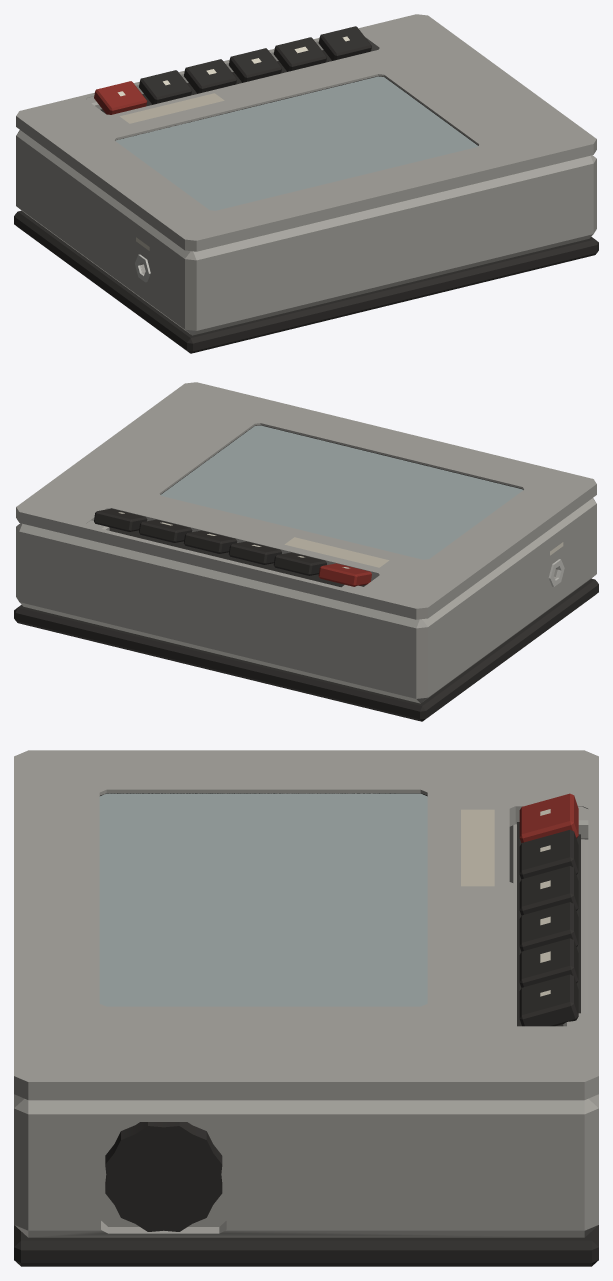
Rendered from portable-cassette-18391ebb8baf.glb.
The picture shows the model from 3 angles, top to bottom: view 1: azimuth 30°, elevation 25°; view 2: azimuth 150°, elevation 25°; view 3: azimuth 270°, elevation 25°; orthographic projection. The views are drawn at different scales.
Parts seen in each view (by area): view 1: brushed, glass-clear, plastic-dark, enamel-red, decal-print; view 2: brushed, glass-clear, plastic-dark, decal-print, enamel-red; view 3: brushed, glass-clear, plastic-dark, decal-print, enamel-red.
Boxes of the visible parts, x1,y1,x2,y2 form: brushed: (16,14,596,335); glass-clear: (116,76,477,210); plastic-dark: (14,26,598,353); enamel-red: (94,81,147,114); decal-print: (120,93,224,123); brushed: (16,382,596,703); glass-clear: (161,425,522,559); plastic-dark: (14,425,598,721); decal-print: (284,537,389,567); enamel-red: (318,563,371,586); brushed: (14,750,598,1237); glass-clear: (99,793,427,1006); plastic-dark: (14,793,598,1266); decal-print: (461,809,494,886); enamel-red: (519,793,578,842).
Size of the model in its own units: 0.1105 by 0.0319 by 0.082.
